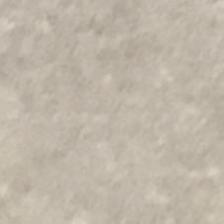Non_Crack: (12, 16, 209, 186)
